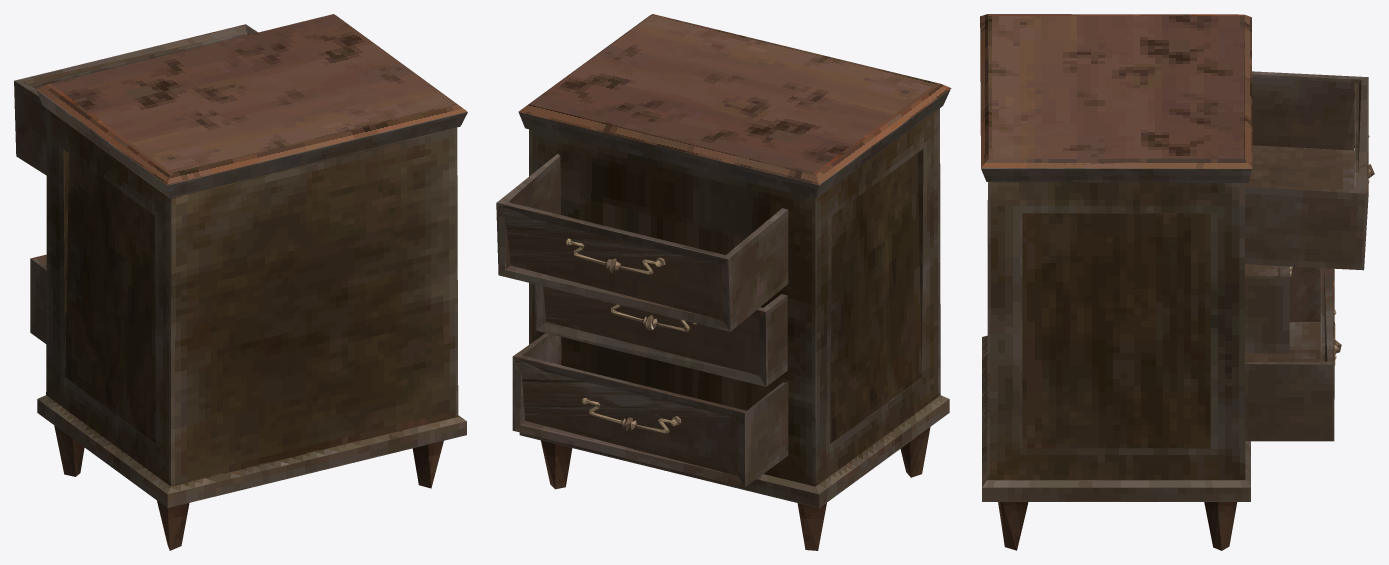
The model's file is item_halloween_dresser.glb.
The picture shows the model from 3 angles, left to right: view 1: azimuth 30°, elevation 25°; view 2: azimuth 150°, elevation 25°; view 3: azimuth 270°, elevation 25°; orthographic projection. The views are drawn at different scales.
Parts seen in each view (by area): view 1: dresser; view 2: dresser; view 3: dresser.
Boxes of the visible parts, x1,y1,x2,y2 form: dresser: (14, 14, 467, 550); dresser: (496, 14, 951, 550); dresser: (980, 14, 1374, 550).
Size of the model in its own units: 0.4965 by 0.6068 by 0.546.
Materials: 1 (1 with a texture image).
